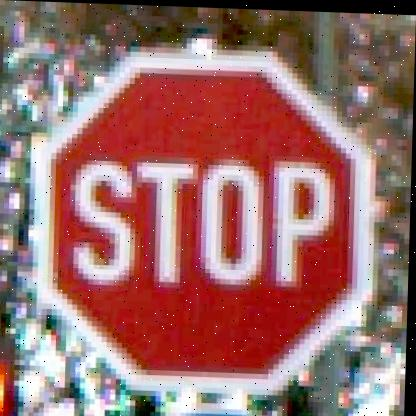Stop Sign: (33, 33, 381, 395)
